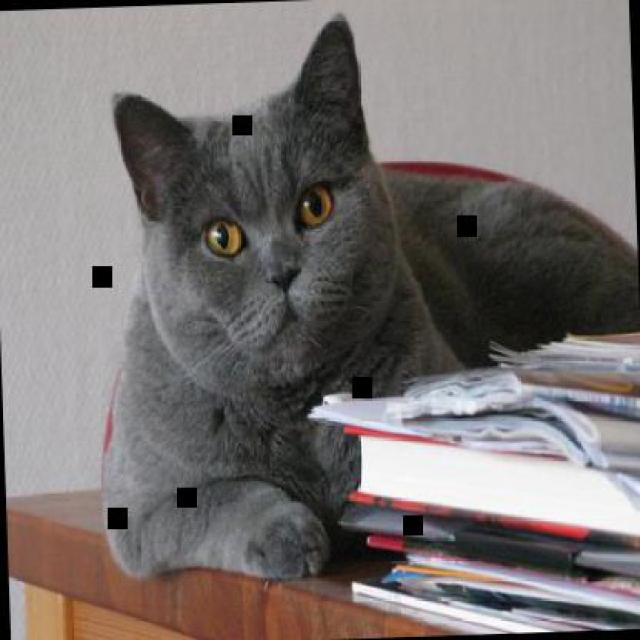cat: (87, 0, 638, 592)
